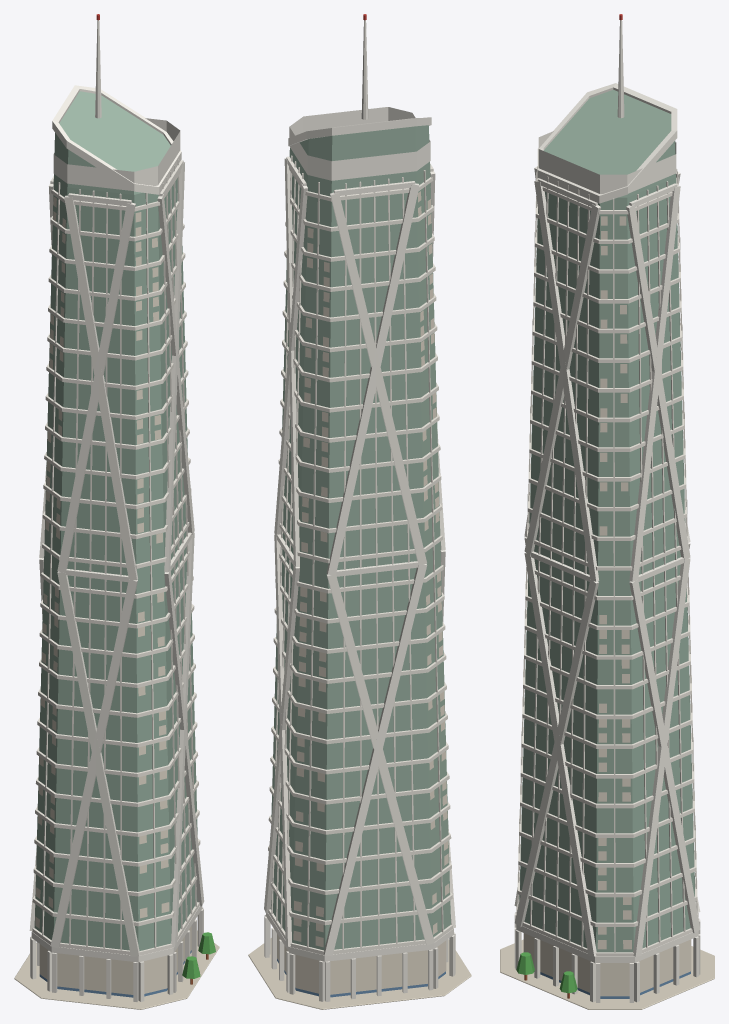
The model's file is 181-fremont.glb.
3 views of the same model, side by side, from view 1: azimuth 30°, elevation 25°; view 2: azimuth 150°, elevation 25°; view 3: azimuth 270°, elevation 25° (orthographic).
Parts seen in each view (by area): view 1: 181-fremont_body, 181-fremont_night_glow; view 2: 181-fremont_body, 181-fremont_night_glow; view 3: 181-fremont_body, 181-fremont_night_glow.
Part boxes in pixels (box(x1,y1,x2,y2)): 181-fremont_body: box(14, 20, 219, 1009); 181-fremont_night_glow: box(35, 14, 191, 994); 181-fremont_body: box(248, 20, 471, 1009); 181-fremont_night_glow: box(277, 14, 449, 994); 181-fremont_body: box(500, 20, 714, 1009); 181-fremont_night_glow: box(519, 14, 695, 996).
Bounding box in the file's own units: 50.43 × 244 × 50.43.
